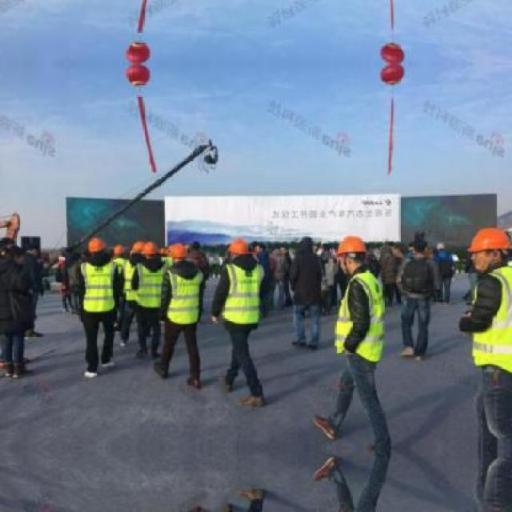helmet: (462, 222, 512, 260), (328, 230, 374, 264), (222, 231, 264, 263), (164, 238, 202, 268), (82, 232, 110, 259), (140, 238, 162, 260)
vest: (330, 270, 392, 372), (464, 266, 512, 382), (217, 264, 272, 334), (162, 266, 208, 330), (74, 260, 120, 318), (132, 260, 170, 312)
